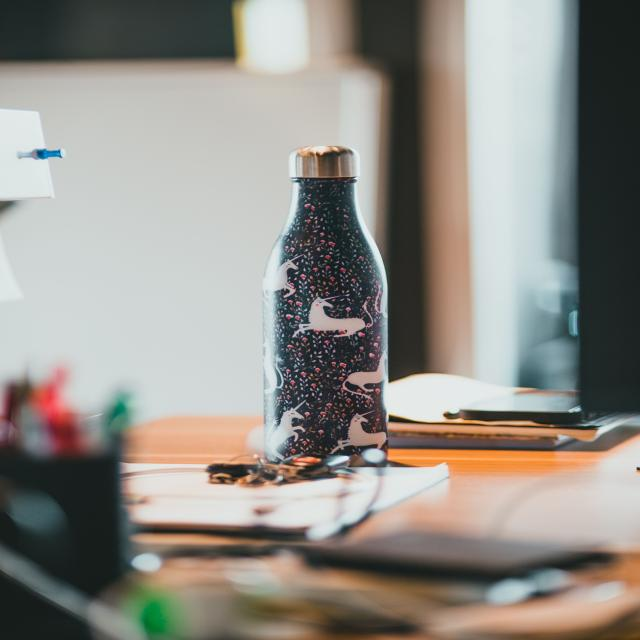Bottle: (263, 147, 387, 461)
